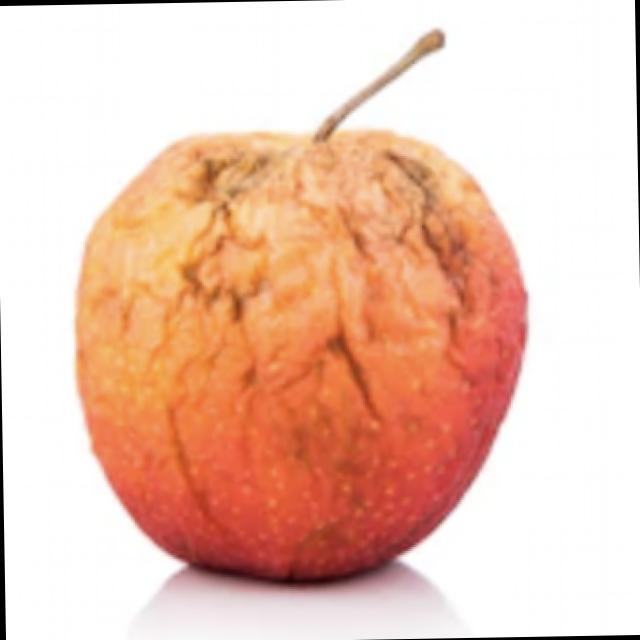rotten_apple: (70, 77, 531, 586)
